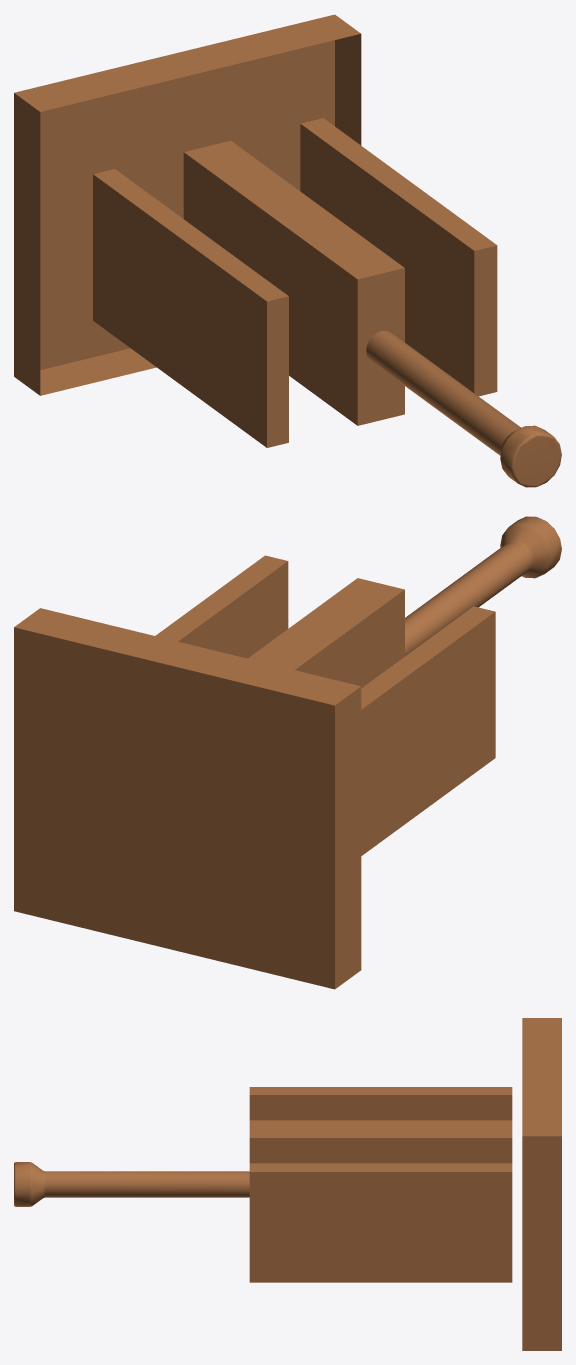
File: MeshDeskLamp_3_0_GeomSubset_0.obj
3 renders of one model, top to bottom at view 1: azimuth 30°, elevation 25°; view 2: azimuth 150°, elevation 25°; view 3: azimuth 270°, elevation 25°, orthographic. The views are drawn at different scales.
Parts seen in each view (by area): view 1: MeshDeskLamp_3_0_GeomSubset_0; view 2: MeshDeskLamp_3_0_GeomSubset_0; view 3: MeshDeskLamp_3_0_GeomSubset_0.
Boxes of the visible parts, left/top/right/bottom form: MeshDeskLamp_3_0_GeomSubset_0: left=14, top=14, right=561, bottom=487; MeshDeskLamp_3_0_GeomSubset_0: left=14, top=516, right=561, bottom=989; MeshDeskLamp_3_0_GeomSubset_0: left=14, top=1018, right=561, bottom=1350.
Bounding box in the file's own units: 0.1339 × 0.1132 × 0.2622.
